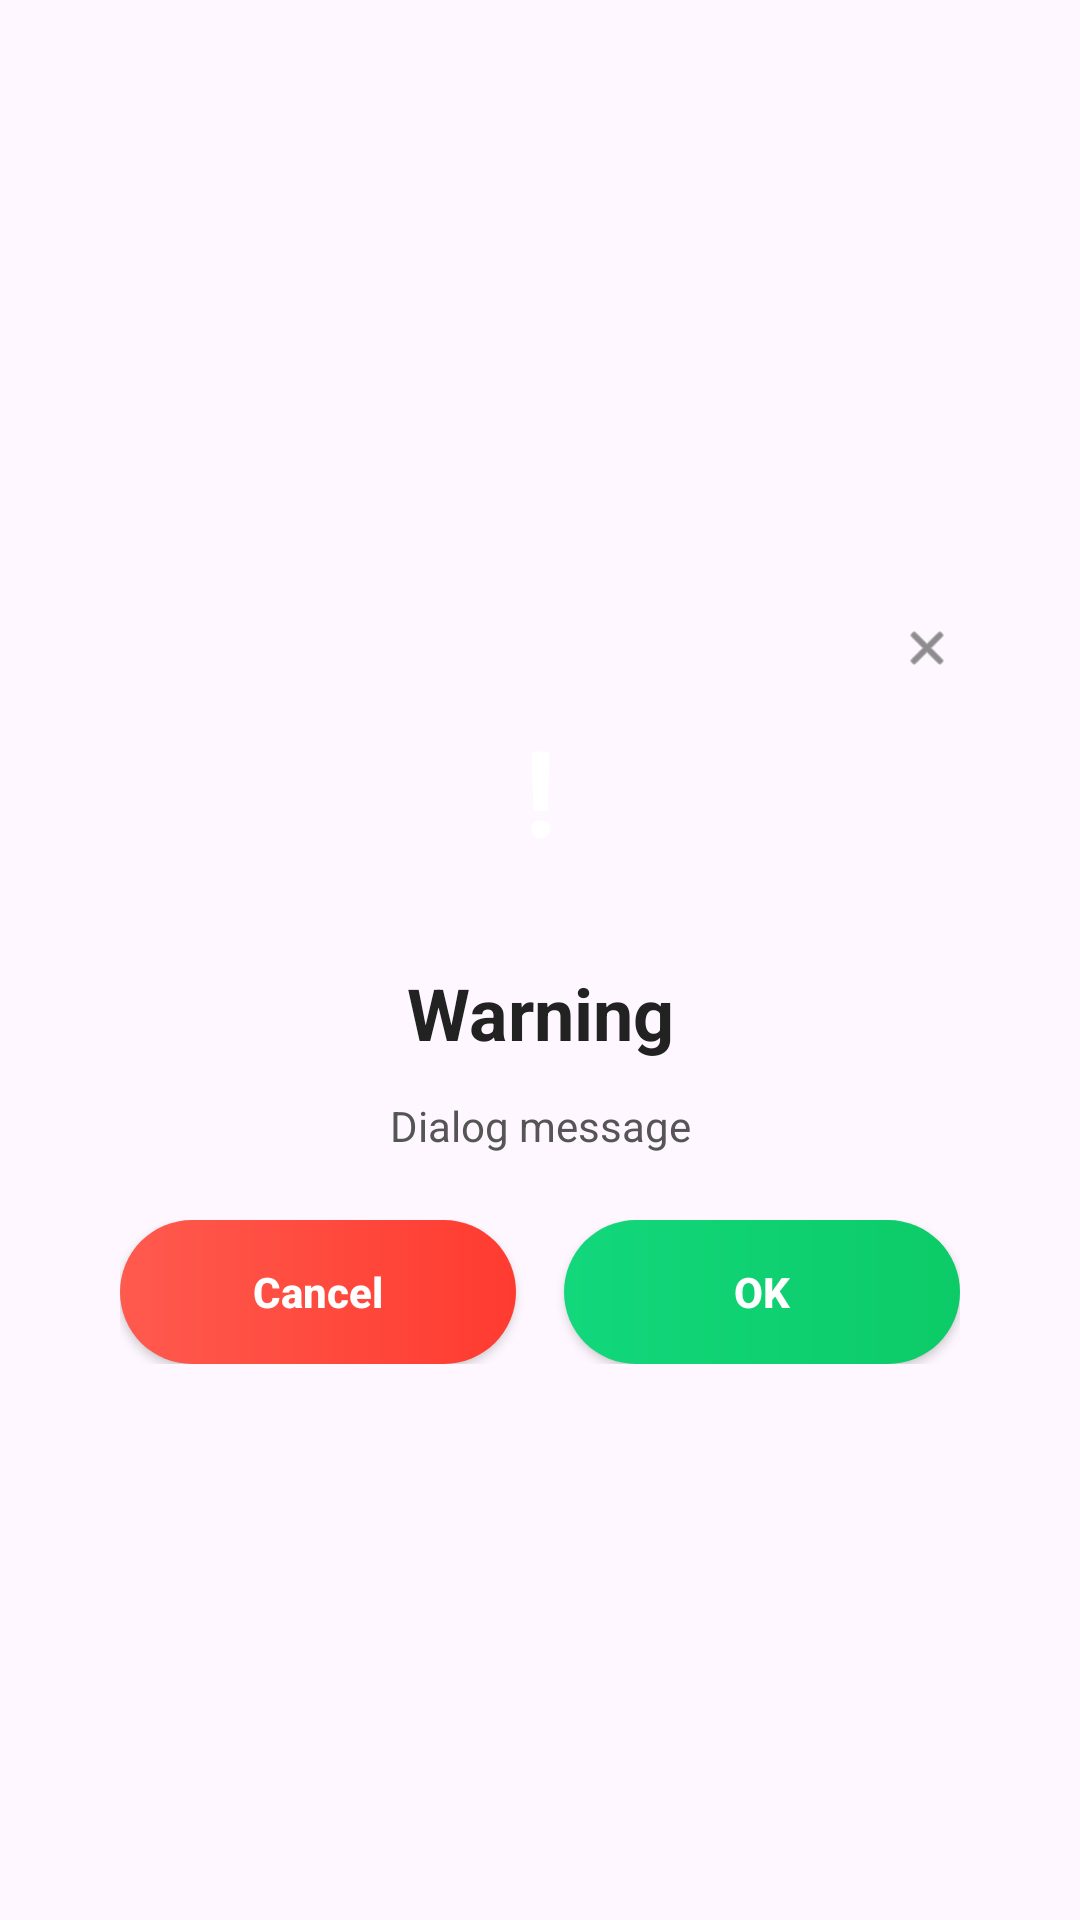

Named icons in this screenshot (1080px x 1920px) and their centers, point (x, y):
Close: point (927, 648)
